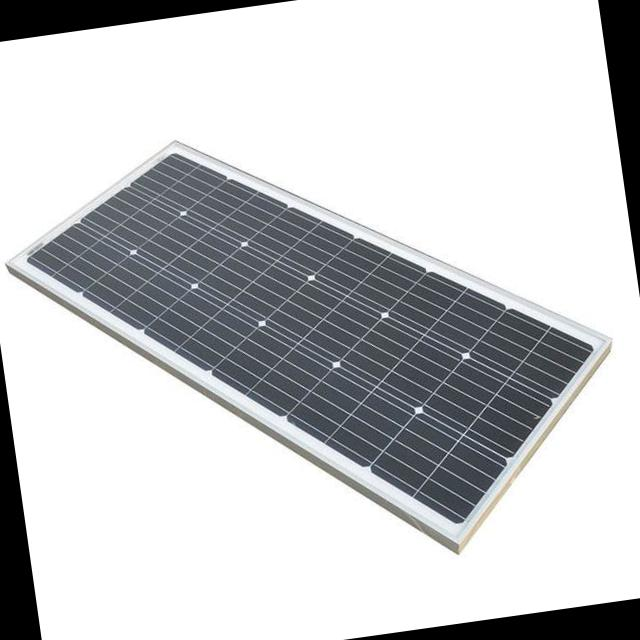no faulty: (25, 162, 584, 519)
